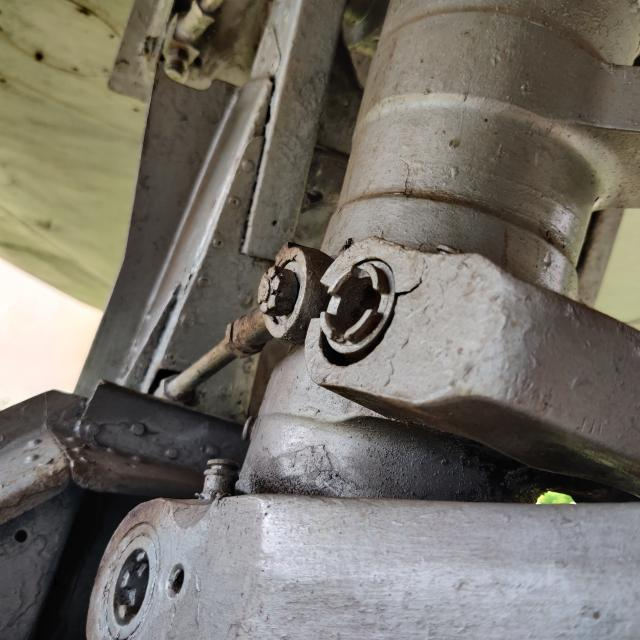crack: (393, 263, 434, 304)
